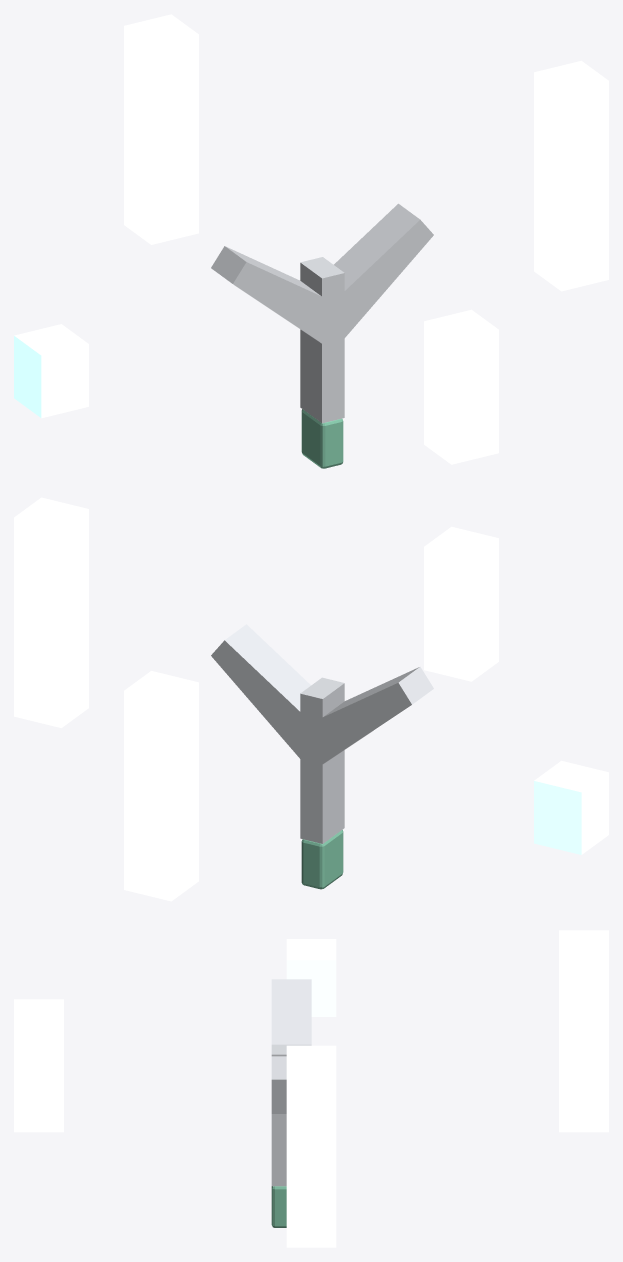
File: turntable.glb
3 renders of one model, top to bottom at view 1: azimuth 30°, elevation 25°; view 2: azimuth 150°, elevation 25°; view 3: azimuth 270°, elevation 25°, orthographic. The views are drawn at different scales.
Visible parts, largest first — view 1: psi-mark, part-left-arm, part-right-arm, part-stem, part-descender; view 2: psi-mark, part-left-arm, part-right-arm, part-stem, part-descender; view 3: part-left-arm, part-right-arm, part-stem, psi-mark, part-descender.
Boxes of the visible parts, x1,y1,x2,y2 form: psi-mark: [211, 203, 433, 468]; part-left-arm: [534, 60, 608, 291]; part-right-arm: [124, 14, 198, 244]; part-stem: [424, 309, 498, 464]; part-descender: [14, 324, 88, 418]; psi-mark: [211, 624, 433, 889]; part-left-arm: [14, 497, 88, 727]; part-right-arm: [124, 671, 198, 901]; part-stem: [424, 526, 498, 681]; part-descender: [534, 760, 608, 854]; part-left-arm: [286, 1045, 336, 1247]; part-right-arm: [559, 930, 608, 1132]; part-stem: [14, 999, 63, 1132]; psi-mark: [271, 979, 311, 1227]; part-descender: [286, 939, 336, 1016].
Bounding box in the file's own units: 1.79 × 0.9402 × 1.79.
